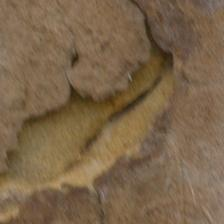Crack: (4, 23, 173, 181)
